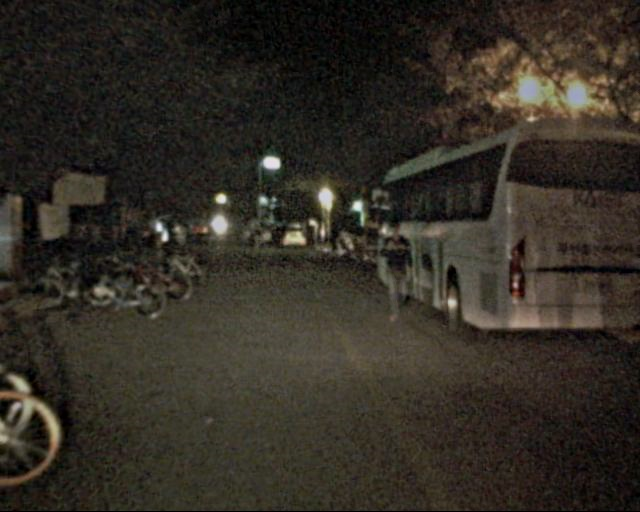person: (376, 220, 419, 324), (164, 214, 192, 279)
